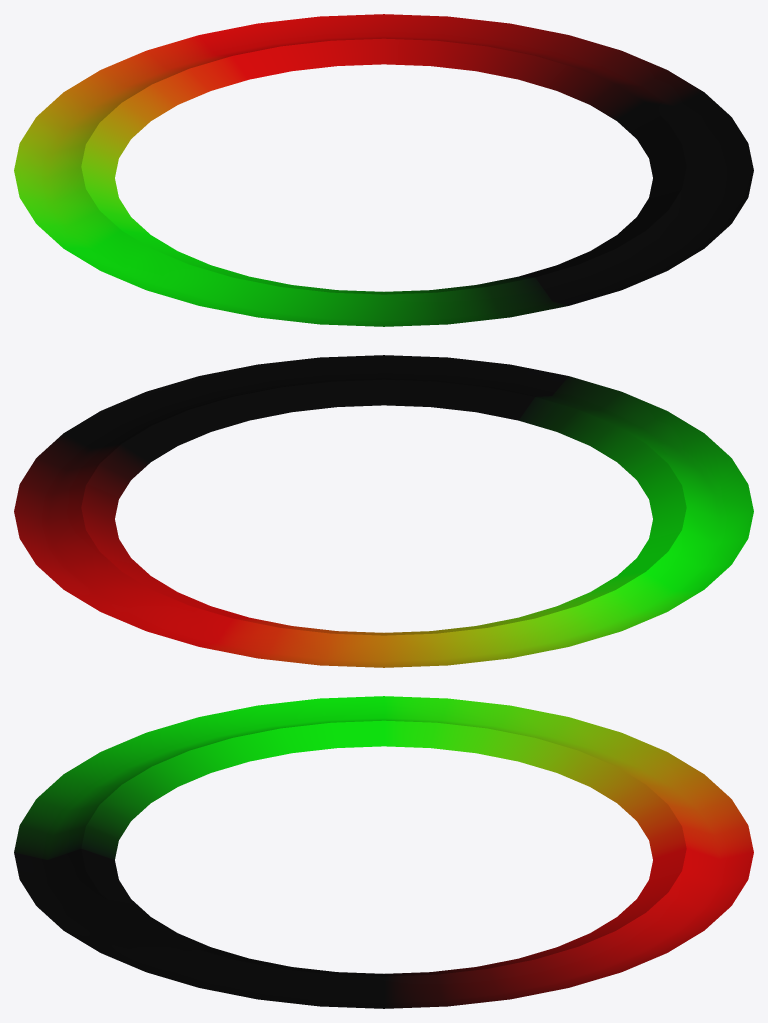
The model's file is uni_disc.fbx.
3 renders of one model, top to bottom at view 1: azimuth 30°, elevation 25°; view 2: azimuth 150°, elevation 25°; view 3: azimuth 270°, elevation 25°, orthographic.
Visible parts, largest first — view 1: uni_disc; view 2: uni_disc; view 3: uni_disc.
Part boxes in pixels (x1,y1,x2,y2): uni_disc: (14, 14, 753, 326); uni_disc: (14, 355, 753, 667); uni_disc: (14, 696, 753, 1008).
Bounding box in the file's own units: 35200 × 600 × 35200.
